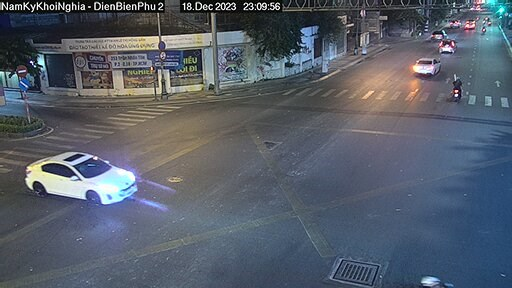car: (18, 142, 139, 207), (411, 54, 443, 80), (438, 36, 459, 56), (431, 28, 450, 43), (448, 17, 462, 31), (463, 17, 477, 30)
motorbike: (446, 74, 467, 102)
